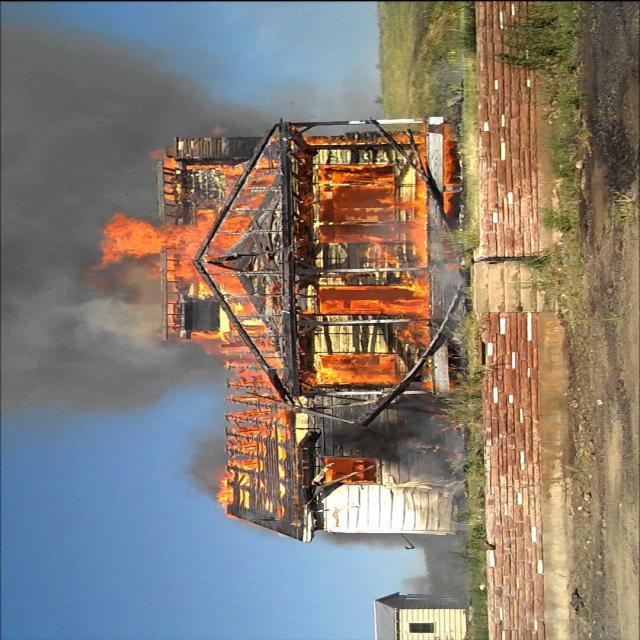Fire: (93, 116, 457, 506)
